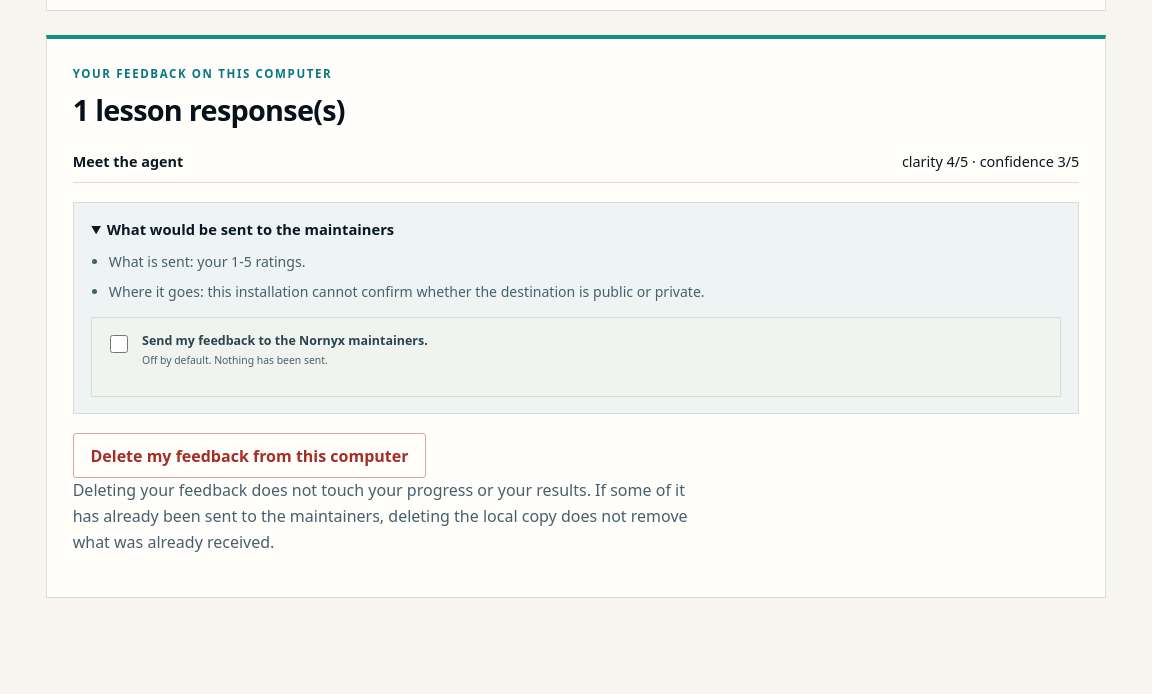
Test: course feedback page › offers deletion separately from resetting progress and never claims remote removal
(page scrolled)
Click the button "Delete my feedback from this computer": (250, 456) top-left (73, 433), bottom-right (426, 478)
(page scrolled)
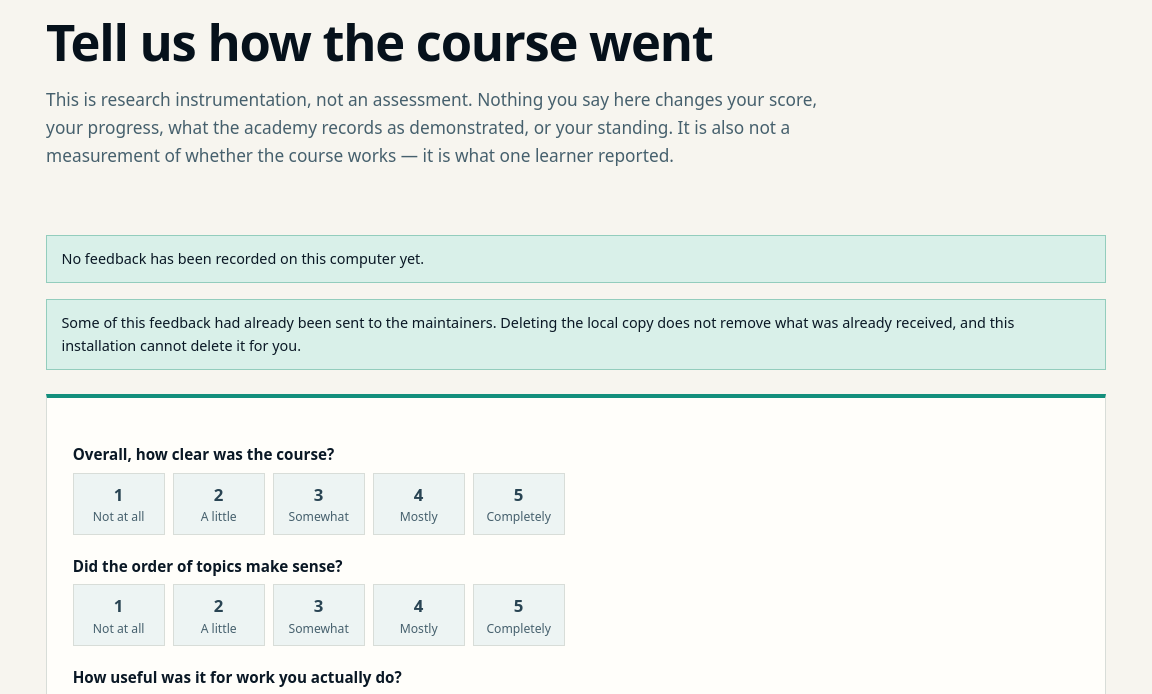
Expected: the message with test id "feedback-deleted" shows "does not remove what was already received", top-left (62, 313), bottom-right (1014, 355)
